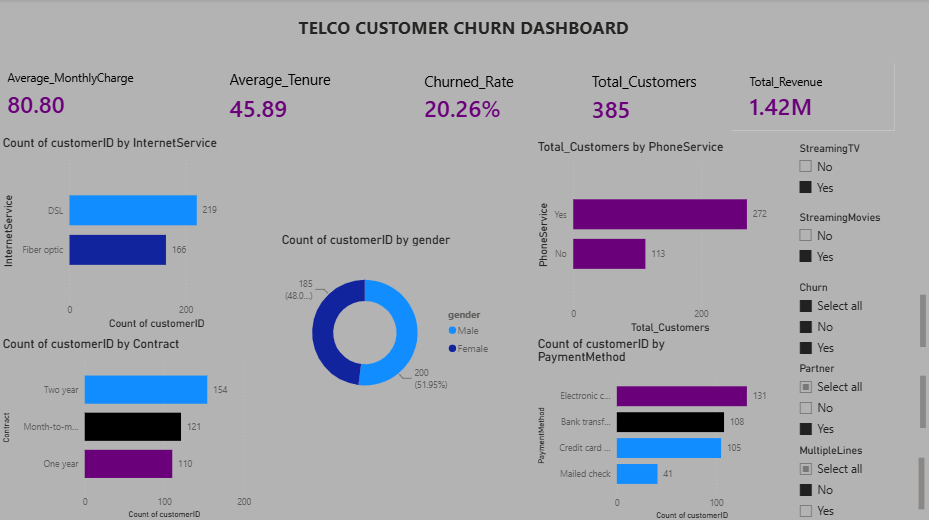

Layout of this report page (visuals, bound fields, positions):
{"tool":"powerbi","page":{"name":"Page 1","canvas":[1280,720],"ordinal":0},"visuals":[{"type":"textbox","box":[335.5,15.8,607.7,47.5],"z":0},{"type":"cardVisual","fields":{"Data":["Telco_Cleaned.Average_MonthlyCharge"]},"box":[5.8,82.9,210.9,96],"z":1000},{"type":"cardVisual","fields":{"Data":["Telco_Cleaned.Average_Tenure"]},"box":[286.5,82.9,228.4,100.4],"z":2000},{"type":"cardVisual","fields":{"Data":["Telco_Cleaned.Churned_Rate"]},"box":[560,87.3,192,93.1],"z":3000},{"type":"cardVisual","fields":{"Data":["Telco_Cleaned.Total_Customers"]},"box":[785.5,87.3,206.5,96],"z":4000},{"type":"cardVisual","fields":{"Data":["Telco_Cleaned.Total_Revenue"]},"box":[1009.5,88.7,224,93.1],"z":5000},{"type":"clusteredBarChart","fields":{"Category":["Telco_Cleaned.Contract"],"Y":["CountNonNull(Telco_Cleaned.customerID)"]},"box":[0,464,352,256],"z":6000},{"type":"clusteredBarChart","fields":{"Category":["Telco_Cleaned.InternetService"],"Y":["CountNonNull(Telco_Cleaned.customerID)"]},"box":[0,187.6,352,272],"z":7000},{"type":"barChart","fields":{"Category":["Telco_Cleaned.PaymentMethod"],"Y":["CountNonNull(Telco_Cleaned.customerID)"]},"box":[735.7,463.6,336,257],"z":8000},{"type":"donutChart","fields":{"Category":["Telco_Cleaned.gender"],"Y":["CountNonNull(Telco_Cleaned.customerID)"]},"box":[384,320,304,256],"z":9000},{"type":"barChart","fields":{"Category":["Telco_Cleaned.PhoneService"],"Y":["Telco_Cleaned.Total_Customers"]},"box":[736,192,336,272],"z":10000},{"type":"slicer","fields":{"Values":["Telco_Cleaned.Churn"]},"box":[1088,384,192,112],"z":11000},{"type":"slicer","fields":{"Values":["Telco_Cleaned.MultipleLines"]},"box":[1088.7,608.3,189.9,111.5],"z":12000},{"type":"slicer","fields":{"Values":["Telco_Cleaned.Partner"]},"box":[1088,496,192,112],"z":13000},{"type":"slicer","fields":{"Values":["Telco_Cleaned.StreamingMovies"]},"box":[1088,288,192,96],"z":14000},{"type":"slicer","fields":{"Values":["Telco_Cleaned.StreamingTV"]},"box":[1088,192,192,96],"z":15000}]}

Visuals, with their boxes in screenshot pixels (x1, y1, x2, y2), scaled from the page's 1280x720 canvas onto the 929x520 screenshot:
textbox: (x1=243, y1=11, x2=685, y2=46)
cardVisual - Telco_Cleaned.Average_MonthlyCharge: (x1=4, y1=60, x2=157, y2=129)
cardVisual - Telco_Cleaned.Average_Tenure: (x1=208, y1=60, x2=374, y2=132)
cardVisual - Telco_Cleaned.Churned_Rate: (x1=406, y1=63, x2=546, y2=130)
cardVisual - Telco_Cleaned.Total_Customers: (x1=570, y1=63, x2=720, y2=132)
cardVisual - Telco_Cleaned.Total_Revenue: (x1=733, y1=64, x2=895, y2=131)
clusteredBarChart - Telco_Cleaned.Contract x CountNonNull(Telco_Cleaned.customerID): (x1=0, y1=335, x2=255, y2=519)
clusteredBarChart - Telco_Cleaned.InternetService x CountNonNull(Telco_Cleaned.customerID): (x1=0, y1=135, x2=255, y2=332)
barChart - Telco_Cleaned.PaymentMethod x CountNonNull(Telco_Cleaned.customerID): (x1=534, y1=335, x2=778, y2=519)
donutChart - Telco_Cleaned.gender x CountNonNull(Telco_Cleaned.customerID): (x1=279, y1=231, x2=499, y2=416)
barChart - Telco_Cleaned.PhoneService x Telco_Cleaned.Total_Customers: (x1=534, y1=139, x2=778, y2=335)
slicer - Telco_Cleaned.Churn: (x1=790, y1=277, x2=928, y2=358)
slicer - Telco_Cleaned.MultipleLines: (x1=790, y1=439, x2=928, y2=519)
slicer - Telco_Cleaned.Partner: (x1=790, y1=358, x2=928, y2=439)
slicer - Telco_Cleaned.StreamingMovies: (x1=790, y1=208, x2=928, y2=277)
slicer - Telco_Cleaned.StreamingTV: (x1=790, y1=139, x2=928, y2=208)
